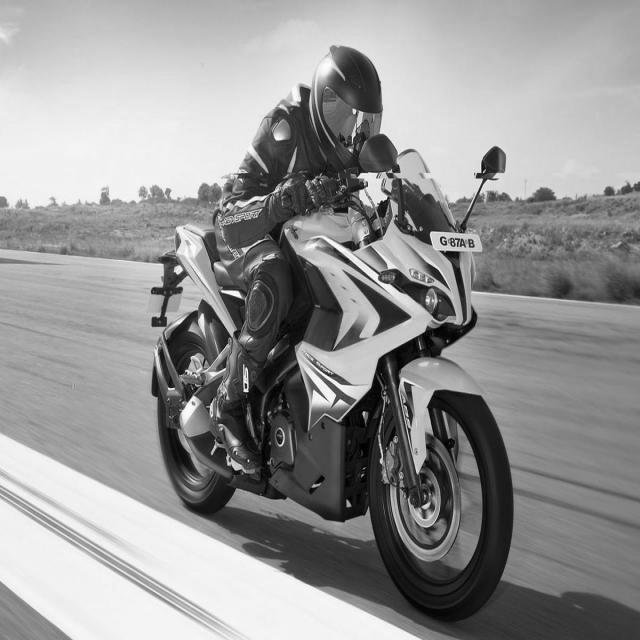Motorbike: (149, 45, 517, 625)
